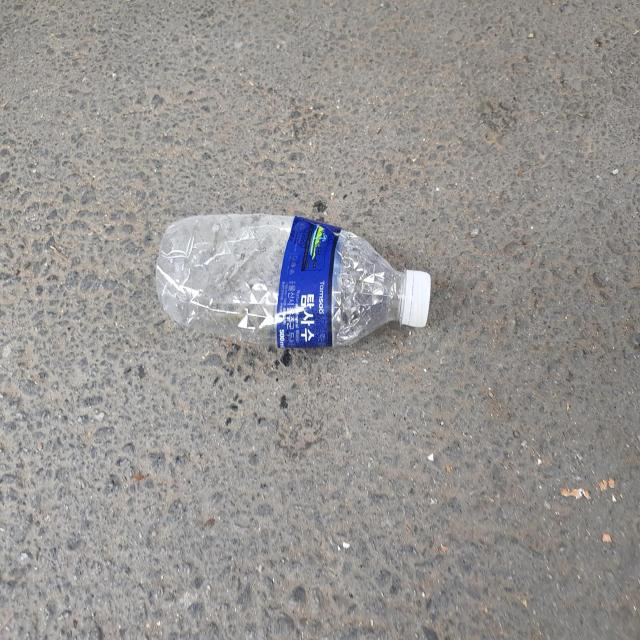plastic: (156, 213, 431, 348)
